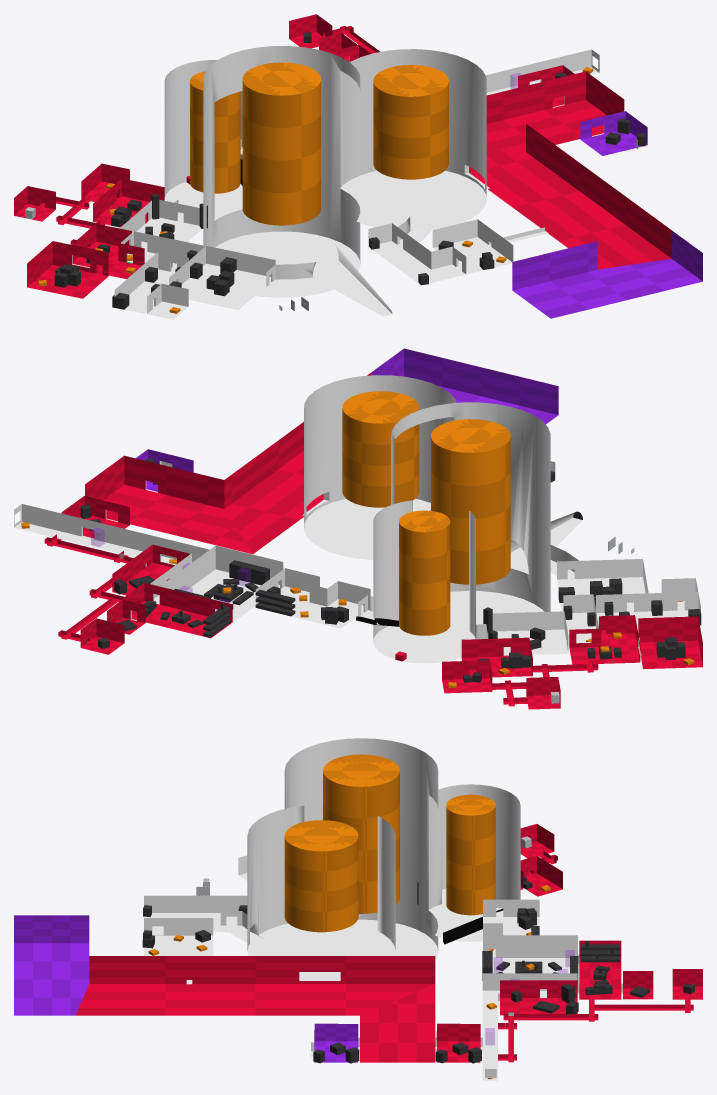
The picture shows the model from 3 angles, top to bottom: view 1: azimuth 30°, elevation 25°; view 2: azimuth 150°, elevation 25°; view 3: azimuth 270°, elevation 25°; orthographic projection. The views are drawn at different scales.
Visible parts, largest first — view 1: Rooms, Props; view 2: Rooms, Props; view 3: Rooms, Props.
Part boxes in pixels (x1,y1,x2,y2): Rooms: (14,14,702,319); Props: (25,32,645,309); Rooms: (14,348,702,709); Props: (70,391,701,703); Rooms: (14,738,702,1080); Props: (142,754,694,1063).
Bounding box in the file's own units: 182 × 53.45 × 179.
Materials: 23 (21 with a texture image).
